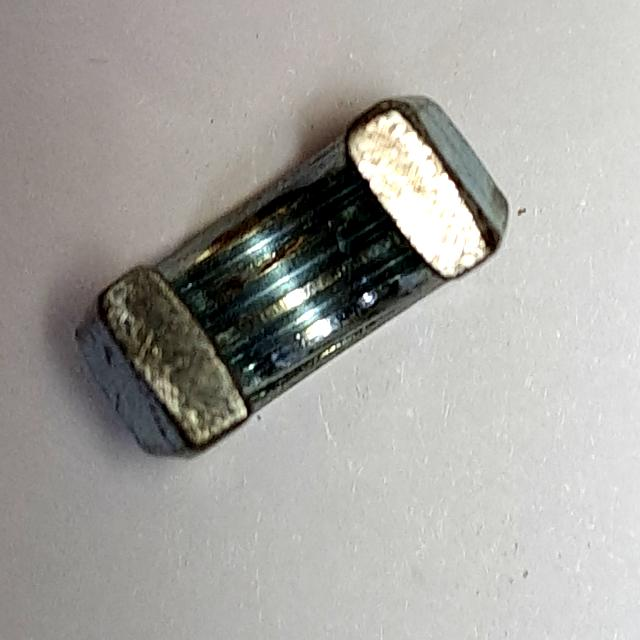Side-Fracture: (68, 85, 519, 477)
